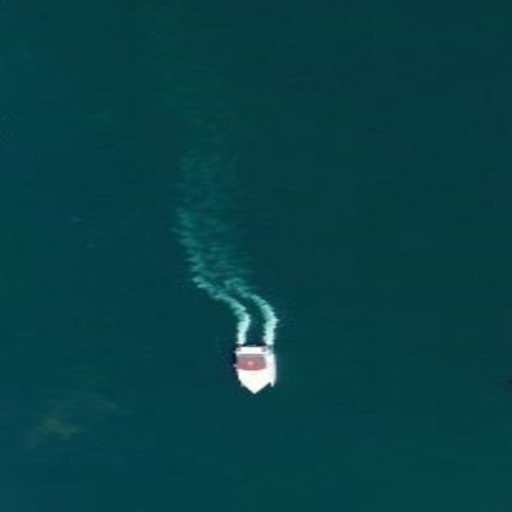ship: (232, 341, 278, 399)
